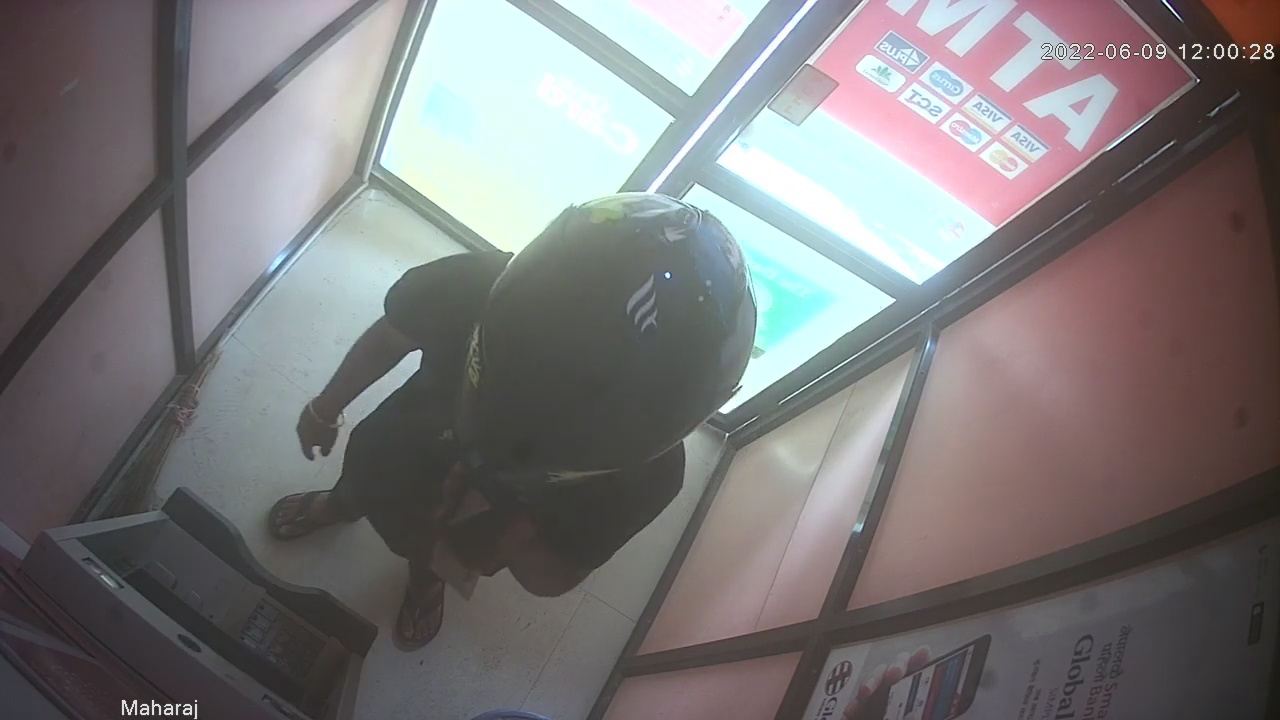helmet: (457, 189, 758, 492)
person: (266, 191, 758, 651)
